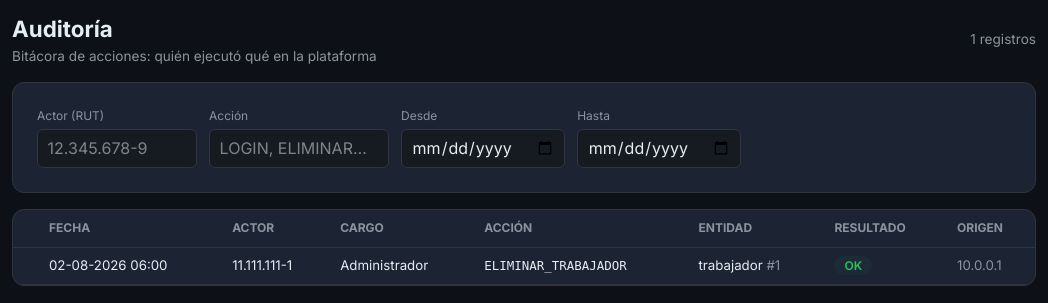
AuditoriaClient - filtros al servidor y detalle expandible › el filtro por actor viaja al servidor y el total refleja su respuesta
The width and height of the screenshot is (1048, 303).
Expected: the text "1 registros" is shown, left=970, top=29, right=1036, bottom=49
Type "22.222.222-2" into the field with placeholder "12.345.678-9". click: (117, 148)
box: left=37, top=129, right=197, bottom=168
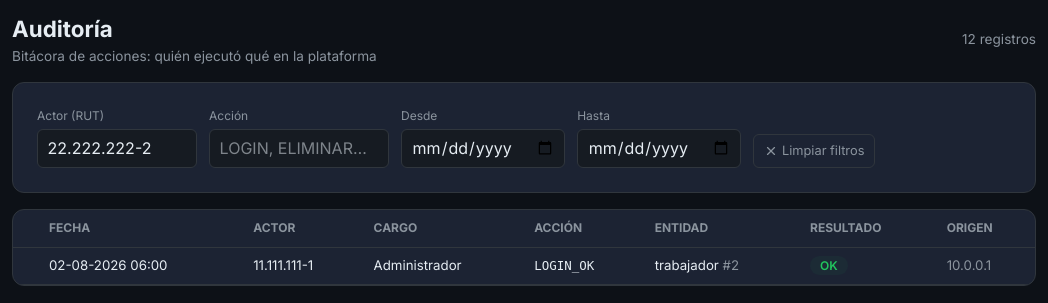
Expected: the text "12 registros" is shown, left=962, top=29, right=1036, bottom=49
Expected: the text "LOGIN_OK" is shown, left=522, top=248, right=643, bottom=284
